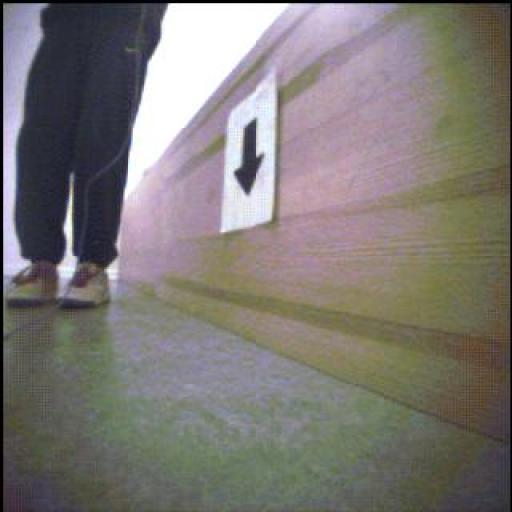arrow: (236, 120, 265, 197)
